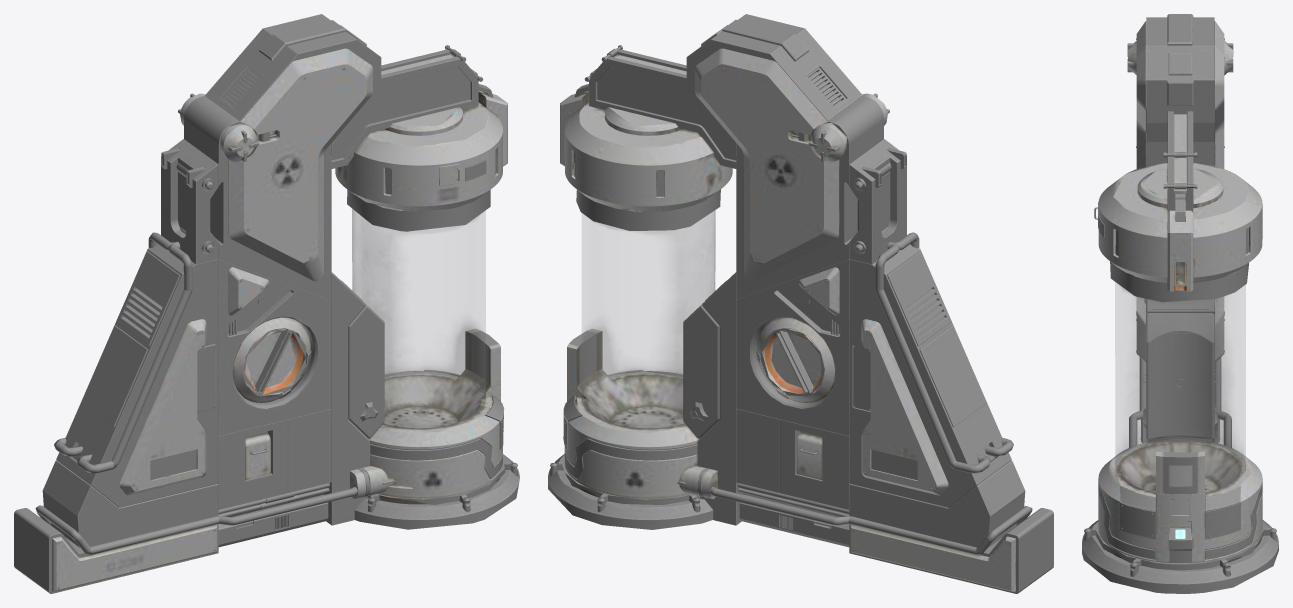
Rendered from capsula.glb.
The picture shows the model from 3 angles, left to right: view 1: azimuth 30°, elevation 25°; view 2: azimuth 150°, elevation 25°; view 3: azimuth 270°, elevation 25°; orthographic projection. The views are drawn at different scales.
Visible parts, largest first — view 1: scifi2.glb; view 2: scifi2.glb; view 3: scifi2.glb.
Part boxes in pixels (x1,y1,x2,y2): scifi2.glb: (14,14,519,593); scifi2.glb: (548,14,1053,593); scifi2.glb: (1082,14,1278,593).
Size of the model in its own units: 2.47 by 2.4 by 0.9077.
Materials: 6 (6 with a texture image).
